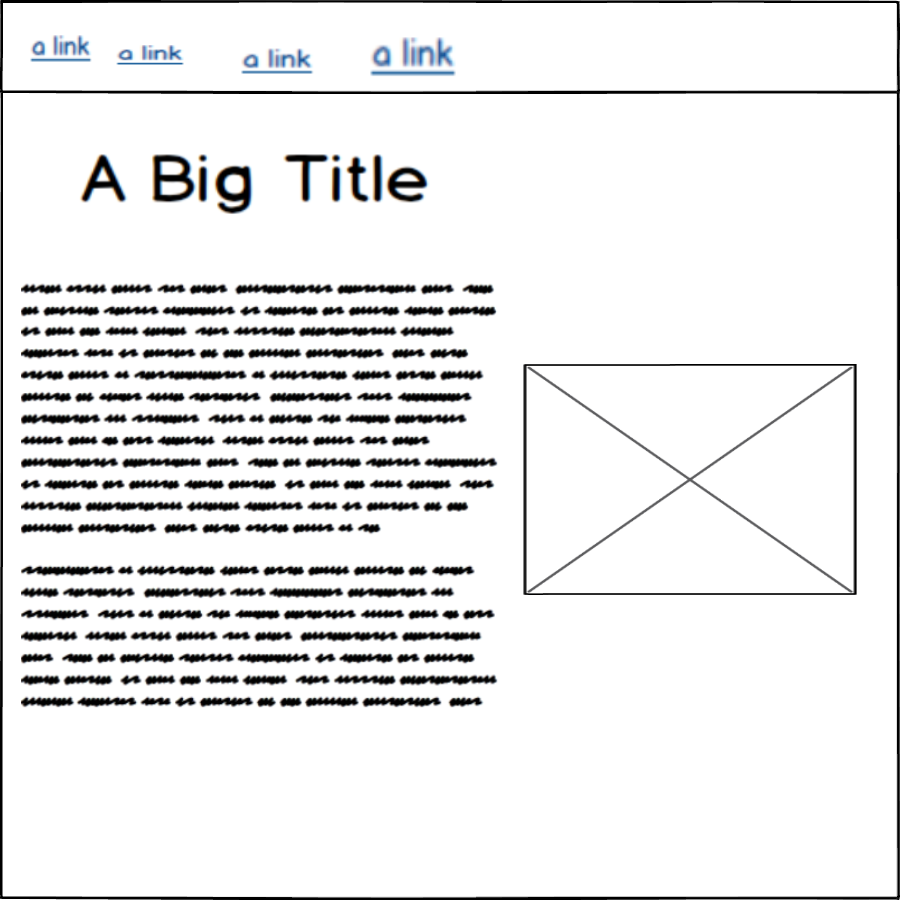h1: (71, 144, 438, 219)
image: (519, 358, 864, 599)
navlink: (365, 33, 460, 80), (237, 41, 319, 81), (28, 29, 97, 67), (109, 40, 190, 70)
p: (16, 277, 502, 714)
